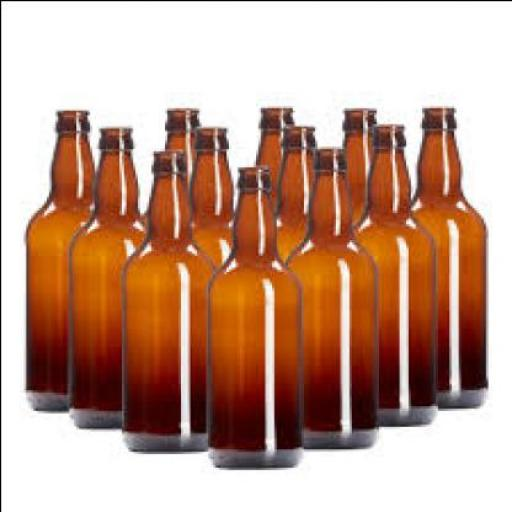glass: (116, 148, 214, 448), (202, 164, 298, 464), (283, 144, 371, 446), (348, 123, 434, 421), (407, 104, 485, 408), (66, 125, 141, 425), (23, 107, 95, 410), (189, 125, 232, 259), (276, 125, 318, 245), (338, 107, 378, 228), (252, 104, 290, 168), (161, 106, 193, 148)
